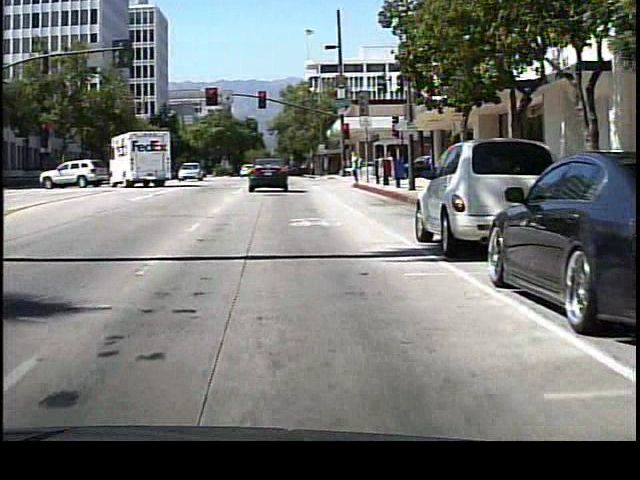person: (346, 150, 365, 190)
